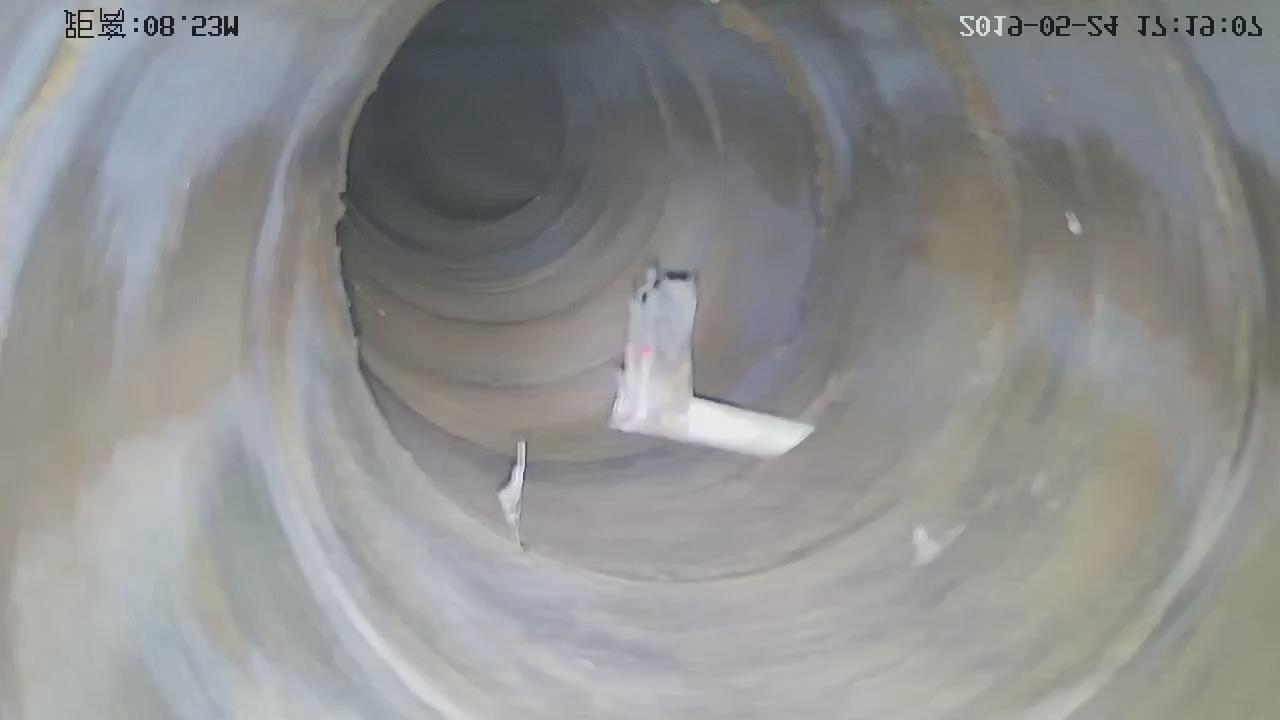ZGAJ: (608, 268, 813, 457)
